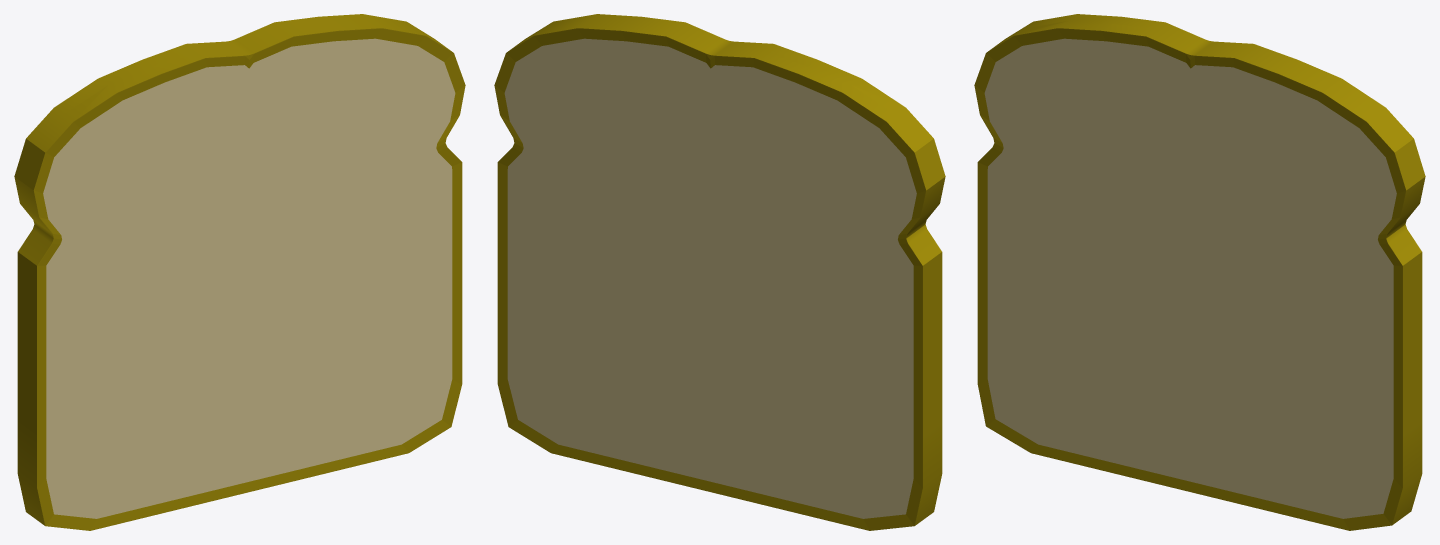
File: tINAPAY.fbx
The picture shows the model from 3 angles, left to right: view 1: azimuth 30°, elevation 25°; view 2: azimuth 150°, elevation 25°; view 3: azimuth 330°, elevation 25°; orthographic projection.
Visible parts, largest first — view 1: pCube2; view 2: pCube2; view 3: pCube2.
Part boxes in pixels (box(x1,y1,x2,y2)): pCube2: box(14, 14, 465, 530); pCube2: box(494, 14, 945, 530); pCube2: box(974, 14, 1425, 530).
Size of the model in its own units: 8.7 by 8.57 by 0.6753.
